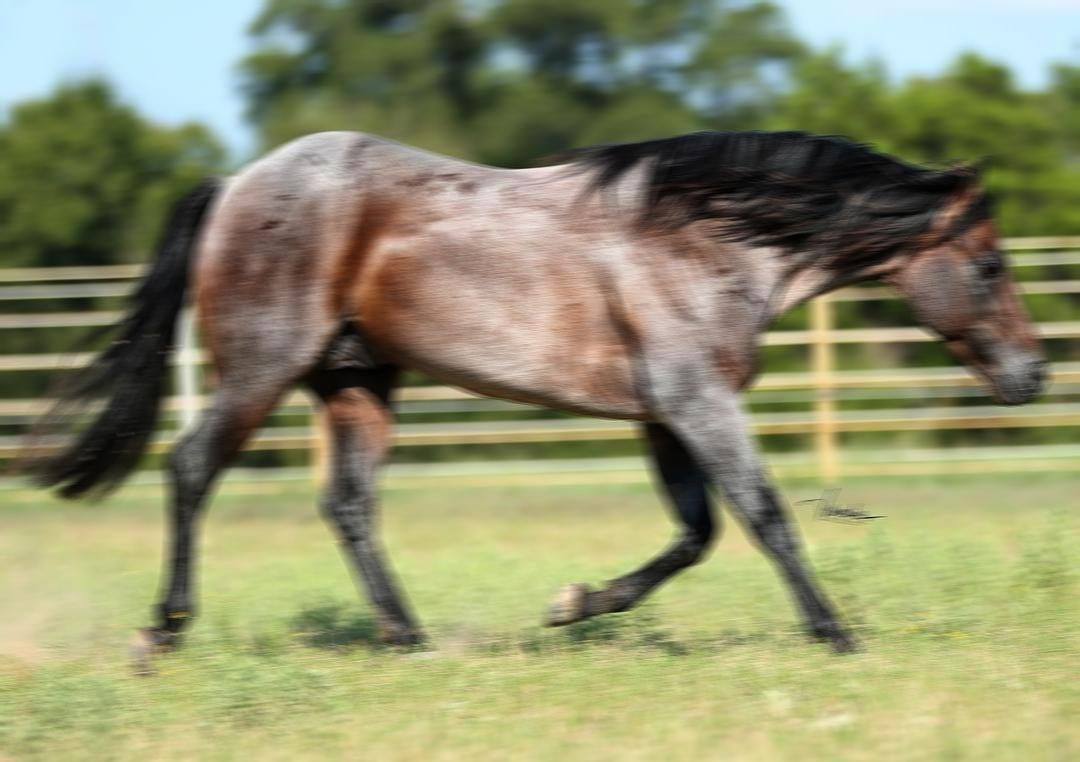horse: (3, 125, 1050, 675)
